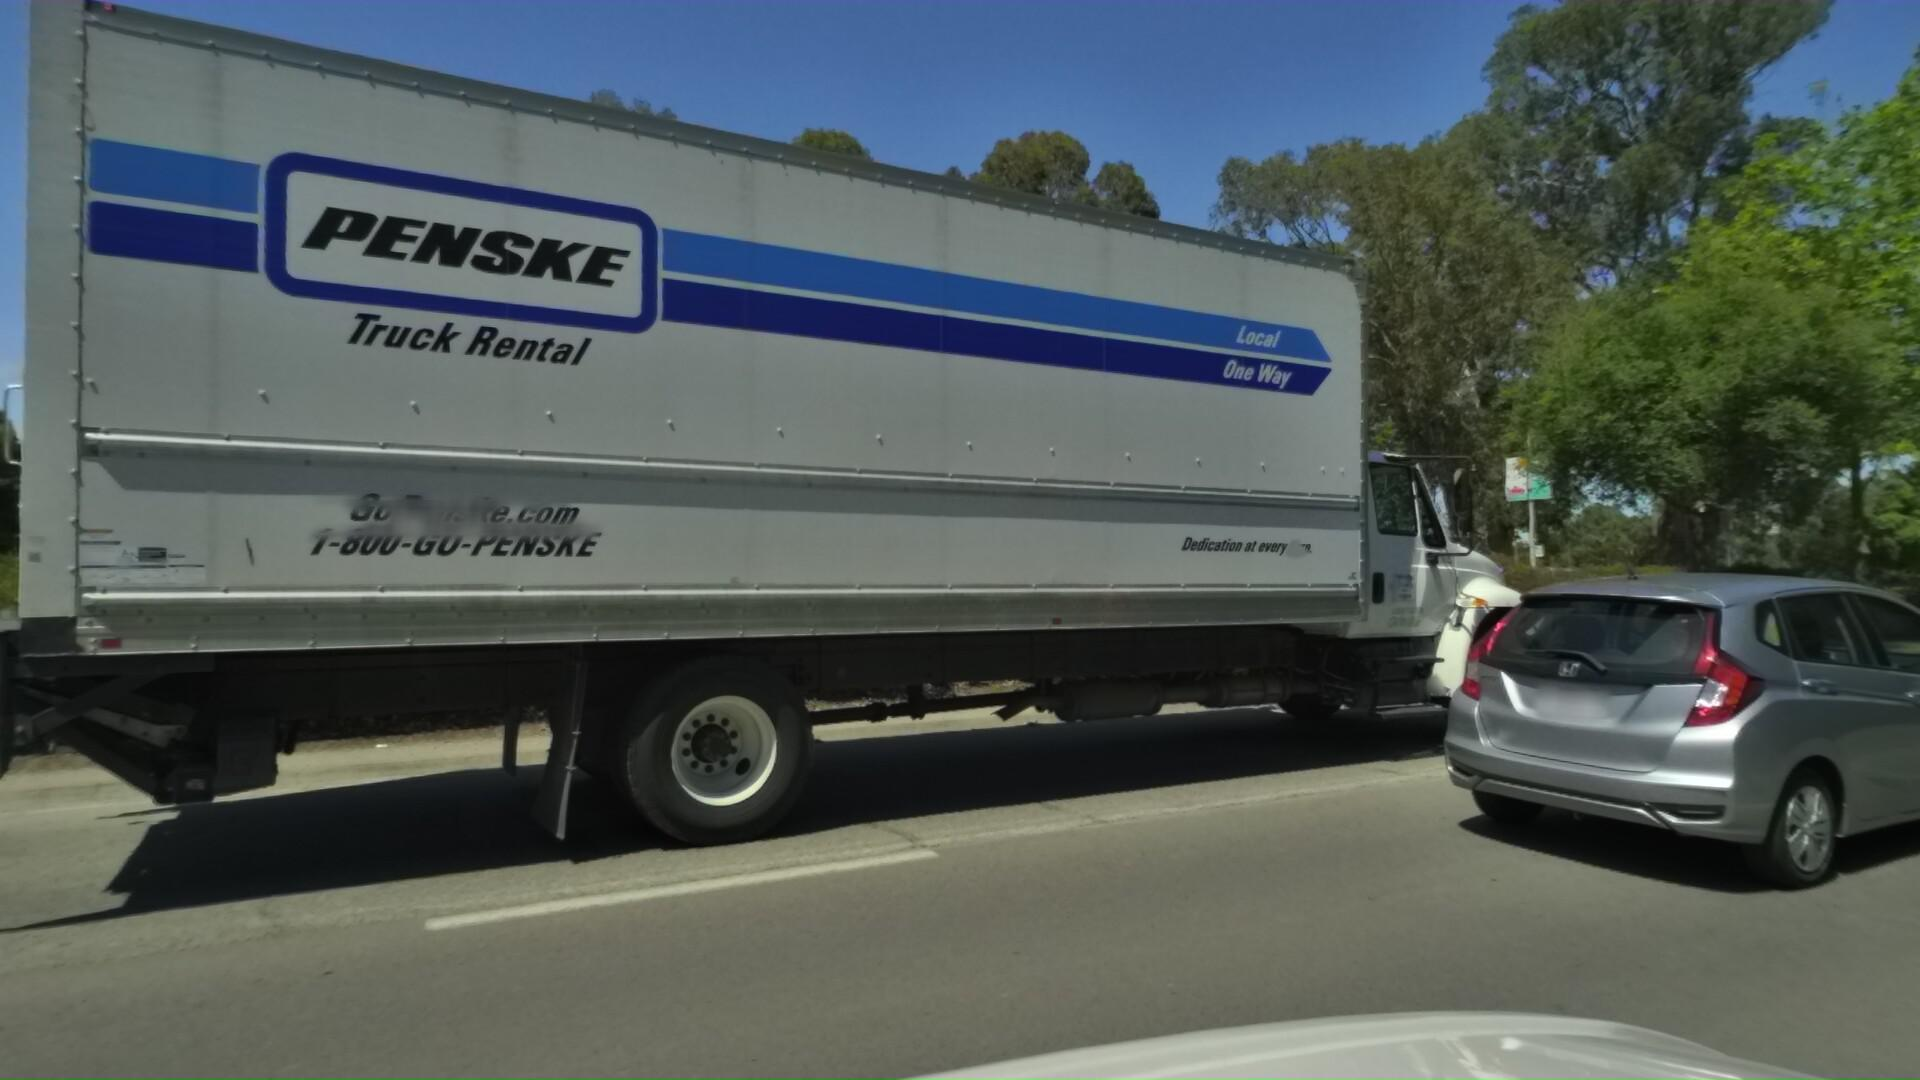car: (1404, 568, 1920, 920)
truck: (0, 0, 1633, 975)
